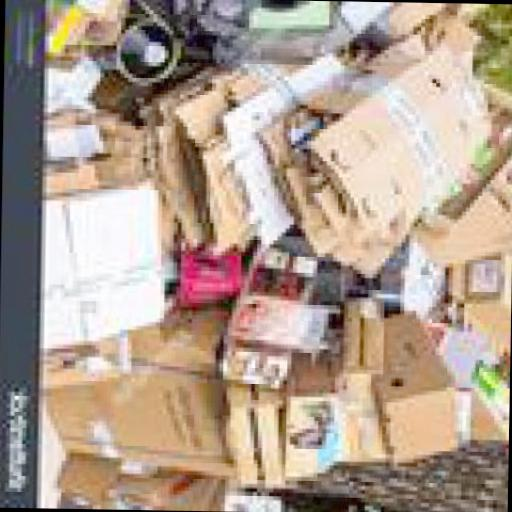cardboard: (304, 28, 500, 236), (252, 68, 419, 287), (42, 116, 182, 362), (48, 312, 246, 484), (148, 62, 299, 264), (416, 85, 512, 273), (226, 231, 349, 358), (372, 314, 471, 468), (419, 90, 512, 237), (187, 2, 393, 66), (425, 322, 510, 448), (60, 452, 236, 512), (333, 302, 392, 466), (52, 116, 150, 206), (280, 356, 346, 482), (223, 392, 289, 497), (450, 258, 510, 369), (374, 238, 452, 319), (42, 336, 139, 398), (390, 242, 452, 324), (174, 247, 252, 312), (46, 48, 104, 126), (53, 105, 115, 170), (48, 1, 124, 50), (376, 6, 452, 52), (218, 347, 294, 393), (444, 8, 496, 28)
